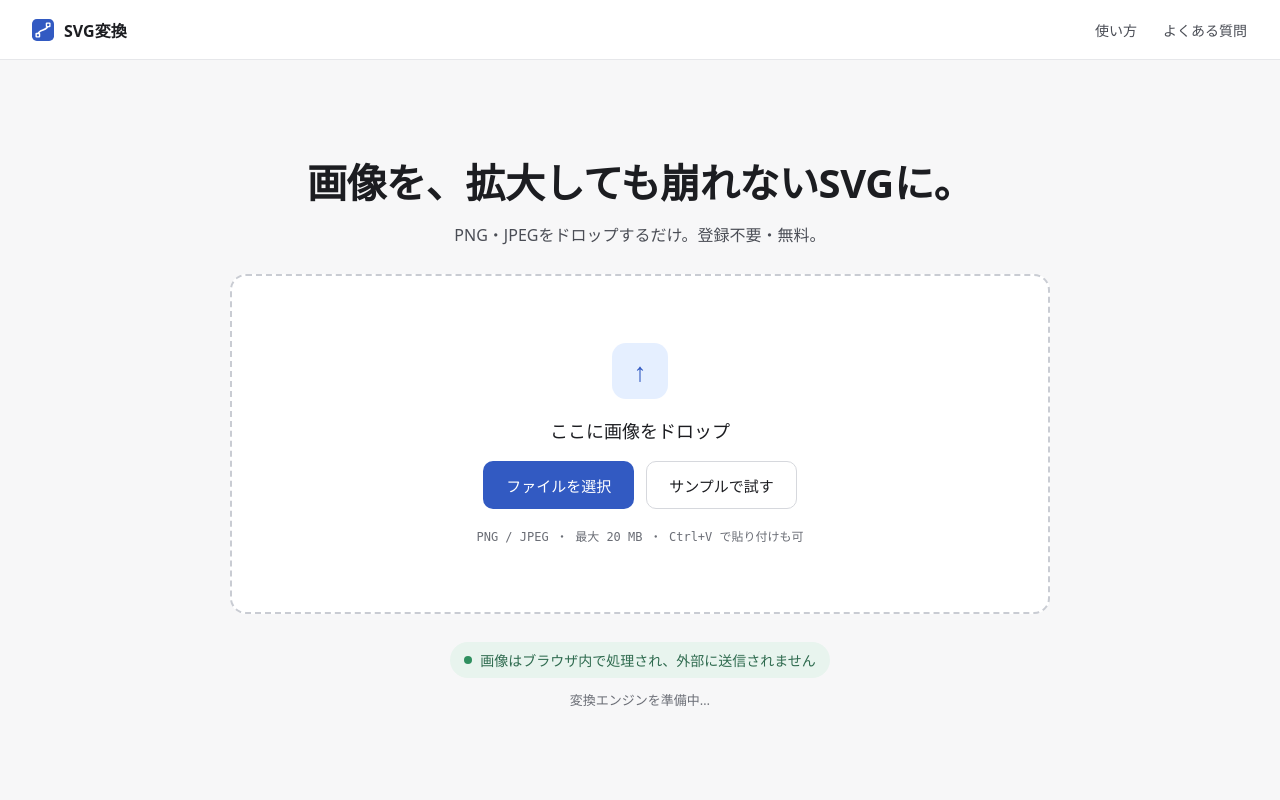
Test: wasm mode › opens the how-to and FAQ
Click the button "使い方": (1116, 30) [1094,14,1138,44]
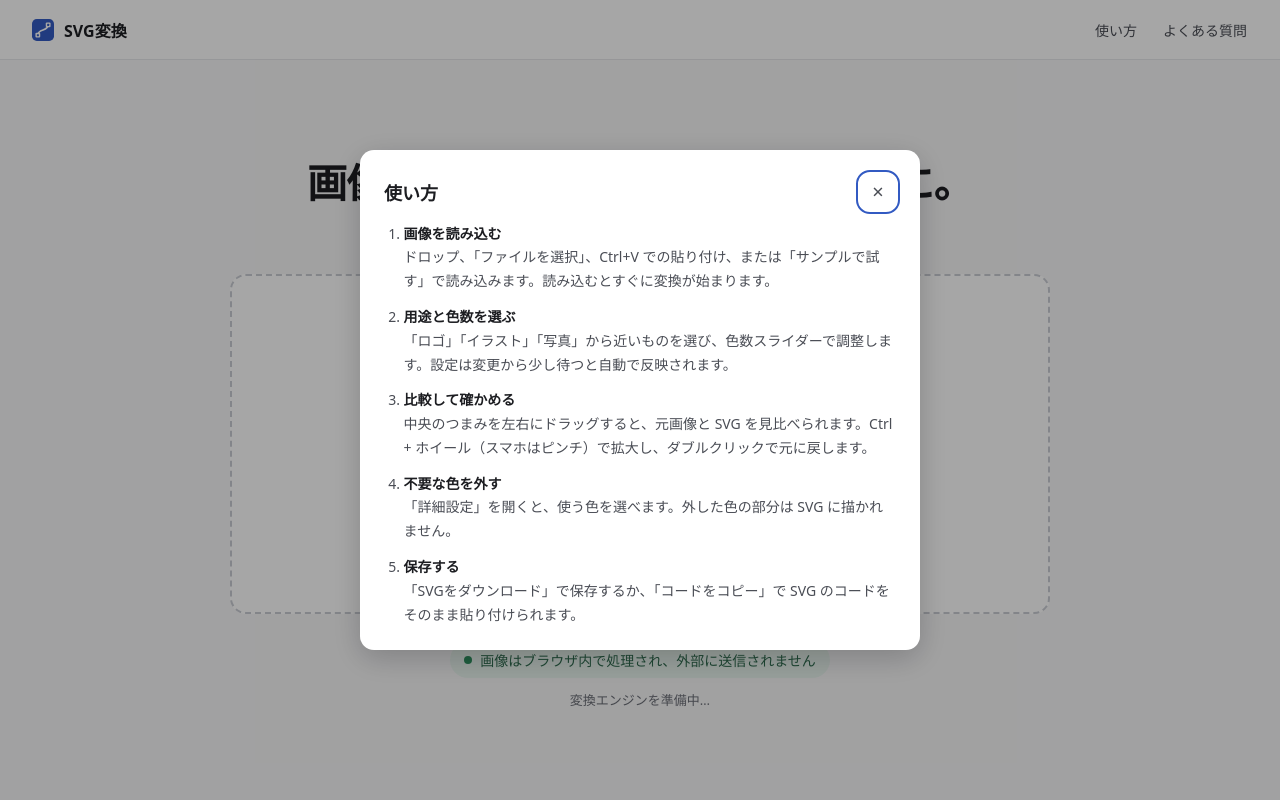
Expected: the heading "使い方" is shown, [384,178,438,204]
Click the button named "閉じる": (878, 192) [860,174,896,210]
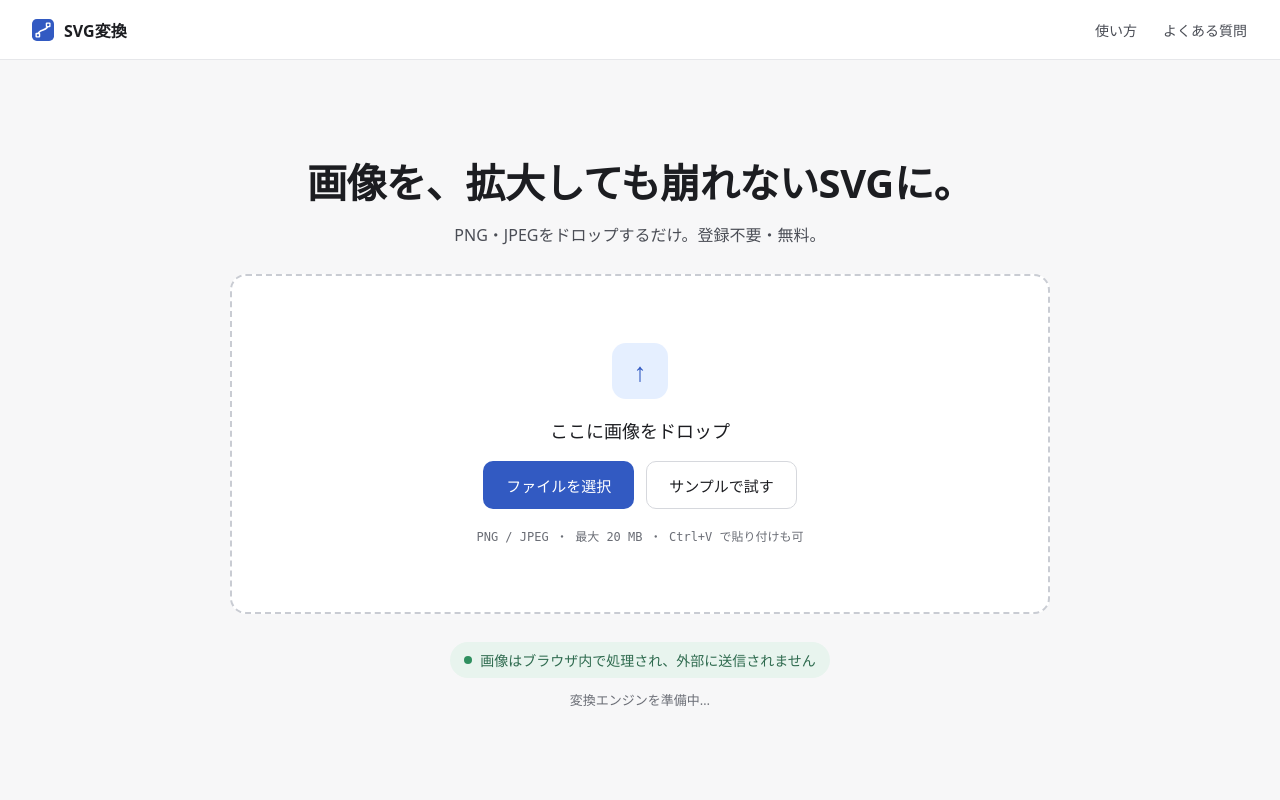
Click the button "よくある質問": (1205, 30) [1162,14,1248,44]
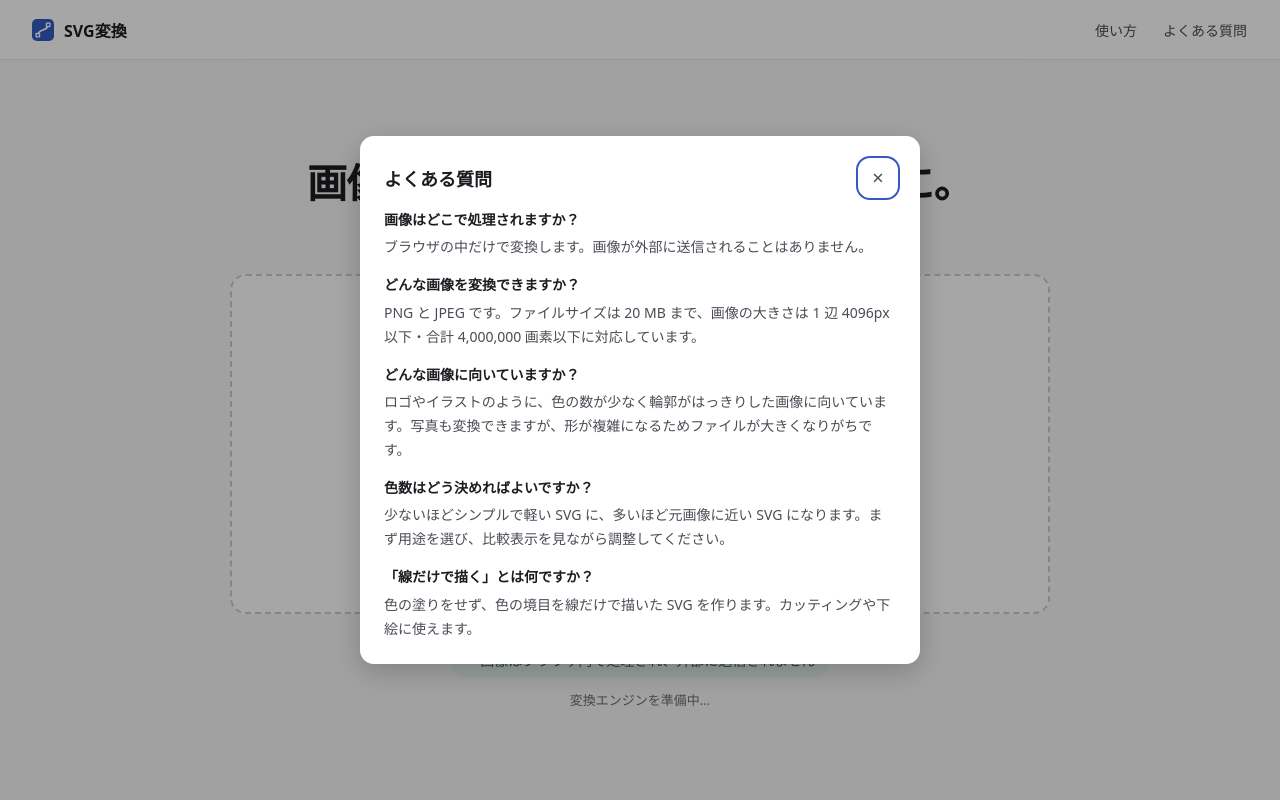
Expected: the text "画像はどこで処理されますか？" is shown, [384,210,580,228]
Expected: the text "ブラウザの中だけで変換します。画像が外部に送信されることはありません。" is shown, [384,235,896,259]
